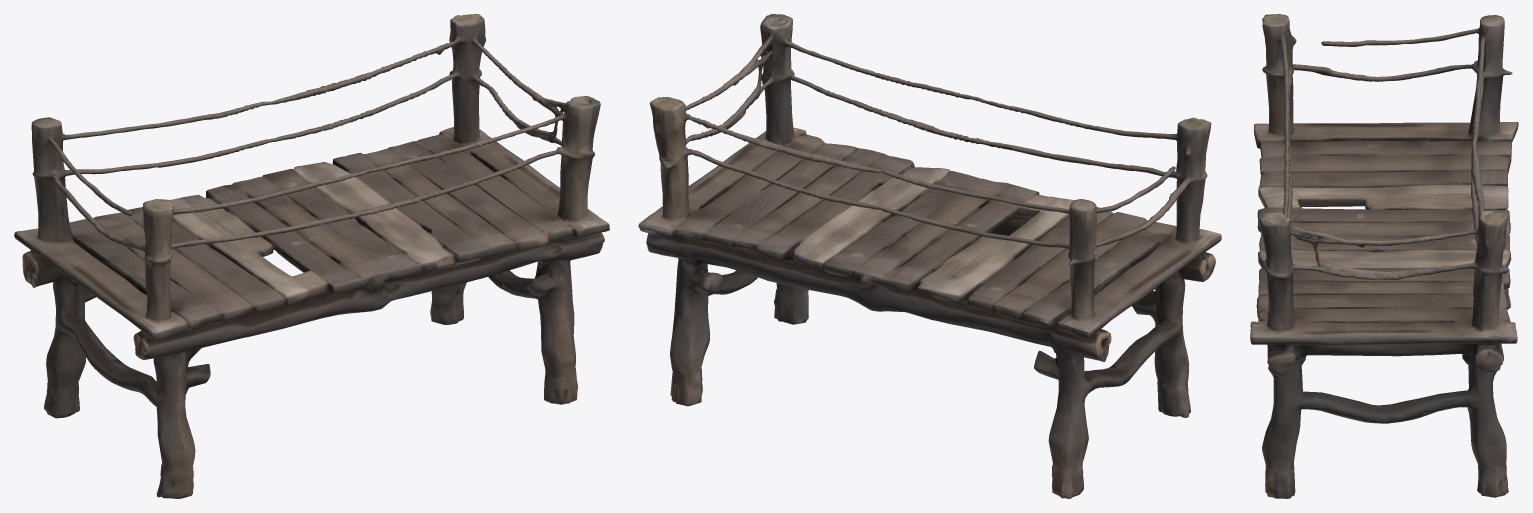
Rendered from walkway.glb.
The picture shows the model from 3 angles, left to right: view 1: azimuth 30°, elevation 25°; view 2: azimuth 150°, elevation 25°; view 3: azimuth 270°, elevation 25°; orthographic projection. The views are drawn at different scales.
Bounding box in the file's own units: 2 × 1.23 × 1.04.
Materials: 1 (1 with a texture image).
